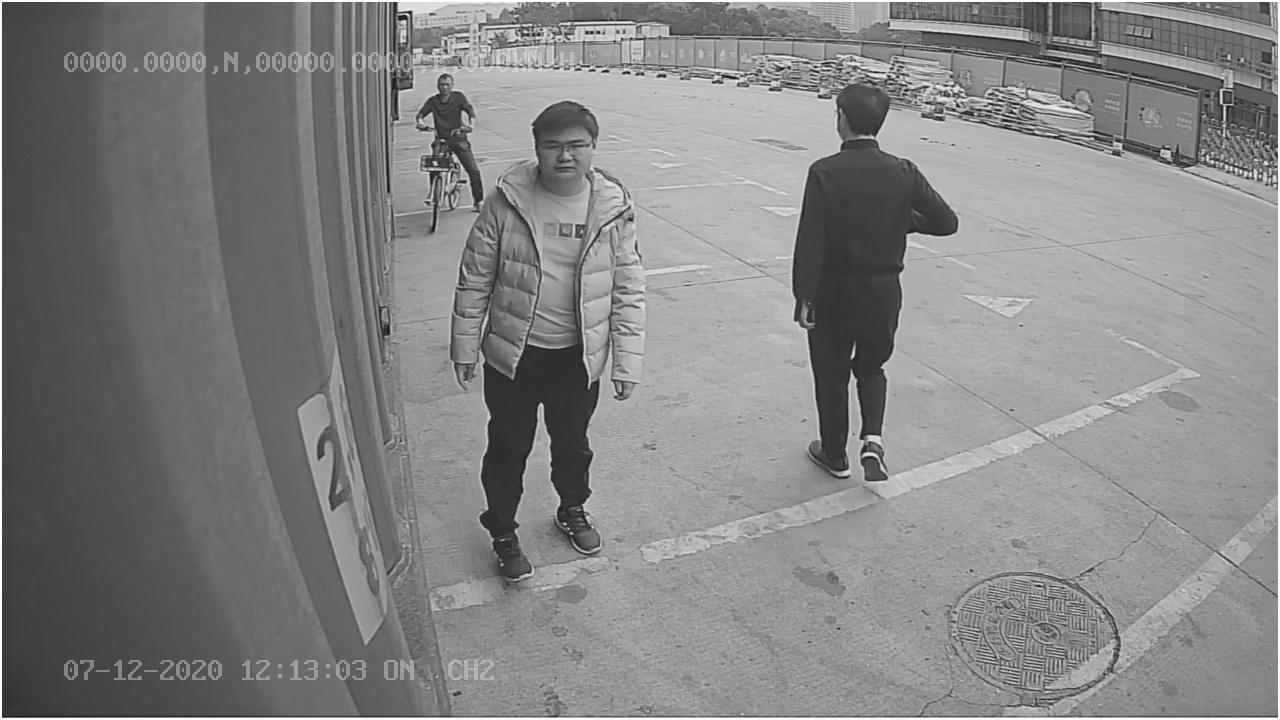person: (443, 92, 657, 597), (791, 81, 958, 490)
